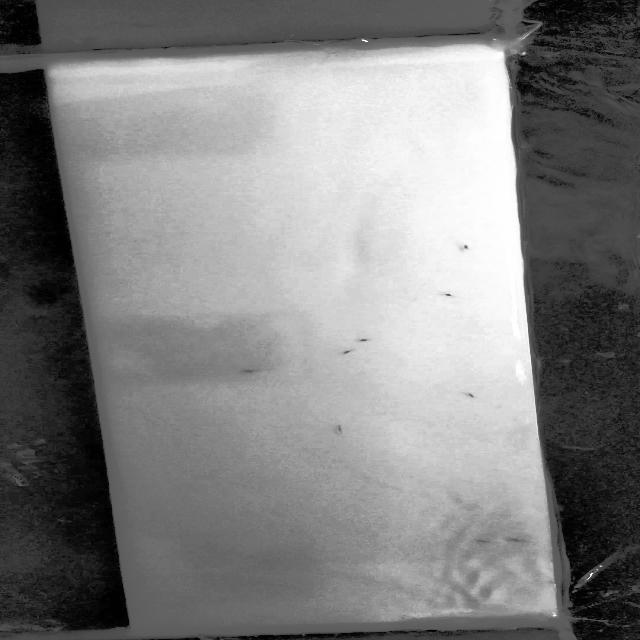shrimp: (240, 368, 273, 377), (334, 346, 360, 356), (454, 242, 478, 252), (330, 424, 347, 436), (461, 390, 481, 399), (443, 292, 464, 300), (353, 338, 374, 344)
